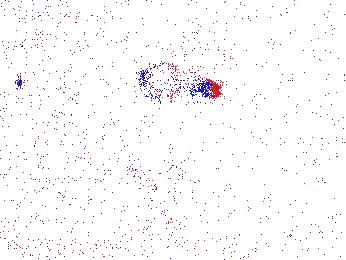flame jellyfish: (134, 58, 221, 106), (126, 162, 188, 210), (1, 174, 38, 237)
